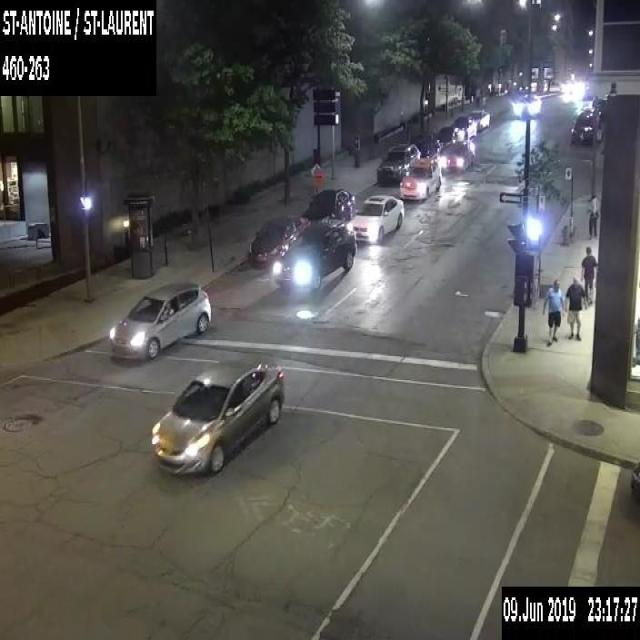construction: (314, 169, 324, 184)
pedestrian: (541, 278, 564, 345), (564, 274, 586, 342), (579, 245, 597, 308), (587, 195, 600, 240)
vehicle: (150, 358, 284, 476), (109, 280, 212, 360), (274, 218, 356, 290), (248, 212, 310, 268), (347, 192, 404, 241), (301, 188, 355, 228), (376, 142, 421, 185), (399, 158, 440, 200), (570, 107, 602, 145), (440, 137, 475, 169), (514, 92, 542, 119), (450, 115, 476, 139), (419, 137, 442, 159), (467, 108, 490, 130), (436, 126, 460, 146), (629, 465, 639, 508)
